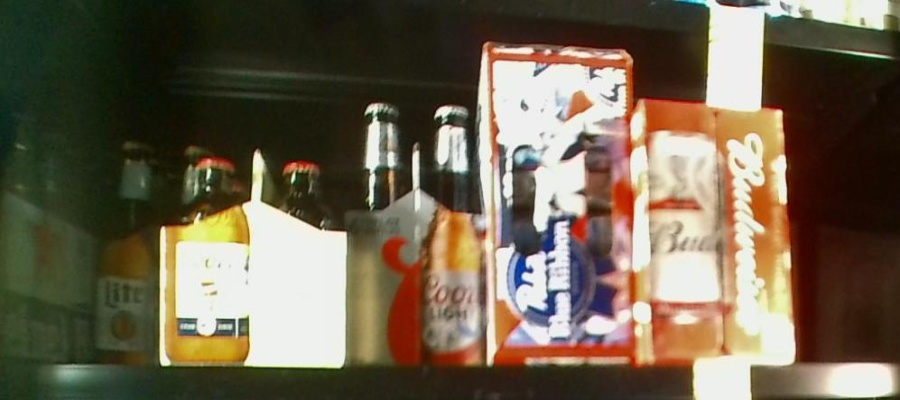bottle: (477, 42, 631, 364), (632, 96, 797, 362), (164, 139, 345, 370), (346, 104, 485, 364), (1, 122, 92, 363), (97, 141, 158, 359)
